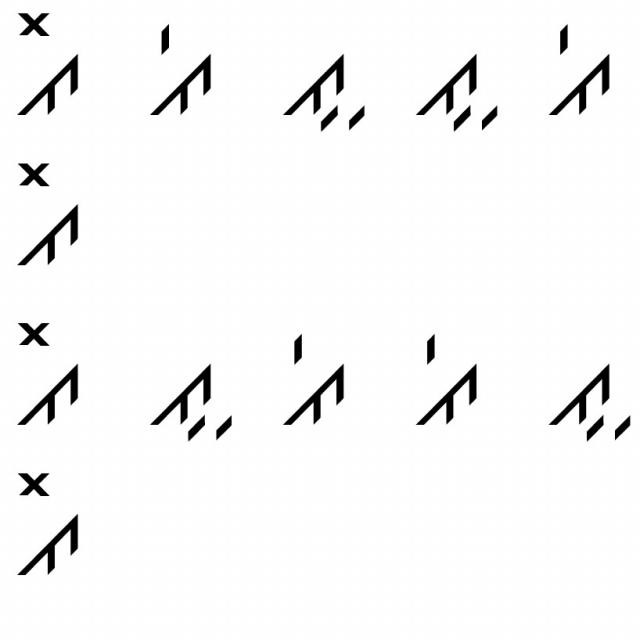kah: (129, 342, 240, 444), (270, 33, 370, 139), (405, 38, 505, 137), (542, 350, 636, 443)
ke: (265, 318, 353, 439), (400, 326, 489, 431), (143, 10, 221, 123), (546, 23, 621, 123)
ko: (6, 312, 110, 447), (5, 154, 89, 272), (9, 463, 87, 582), (10, 5, 91, 117)
